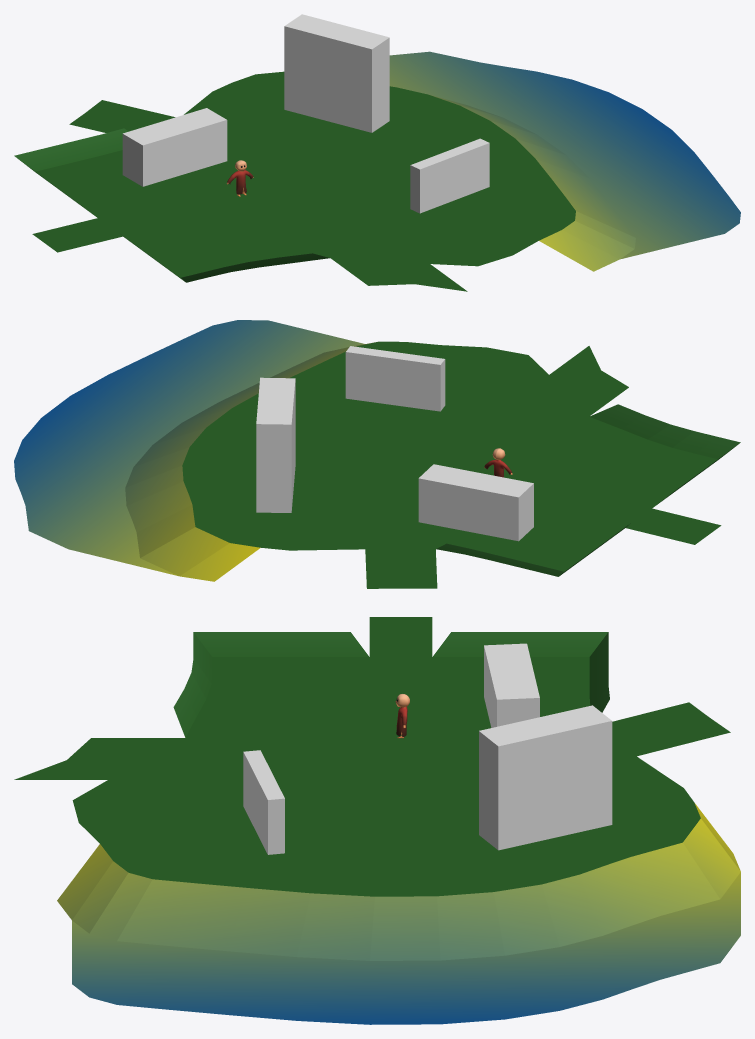
Rendered from Zone3.glb.
3 views of the same model, one above another, from view 1: azimuth 30°, elevation 25°; view 2: azimuth 150°, elevation 25°; view 3: azimuth 270°, elevation 25° (orthographic). The views are drawn at different scales.
Parts seen in each view (by area): view 1: Plane, Cube.001, Cube.002, Cube; view 2: Plane, Cube.002, Cube, Cube.001; view 3: Plane, Cube.001, Cube.002, Cube.
Boxes of the visible parts, x1,y1,x2,y2 form: Plane: (14, 51, 740, 291); Cube.001: (284, 14, 389, 132); Cube.002: (122, 108, 227, 186); Cube: (410, 138, 489, 213); Plane: (14, 320, 740, 588); Cube.002: (418, 464, 533, 541); Cube: (345, 346, 445, 411); Cube.001: (256, 377, 295, 512); Plane: (14, 617, 740, 1024); Cube.001: (479, 705, 612, 850); Cube.002: (484, 643, 539, 727); Cube: (243, 750, 284, 854).
Bounding box in the file's own units: 46.84 × 8.08 × 38.53.
Materials: 1 (1 with a texture image).
